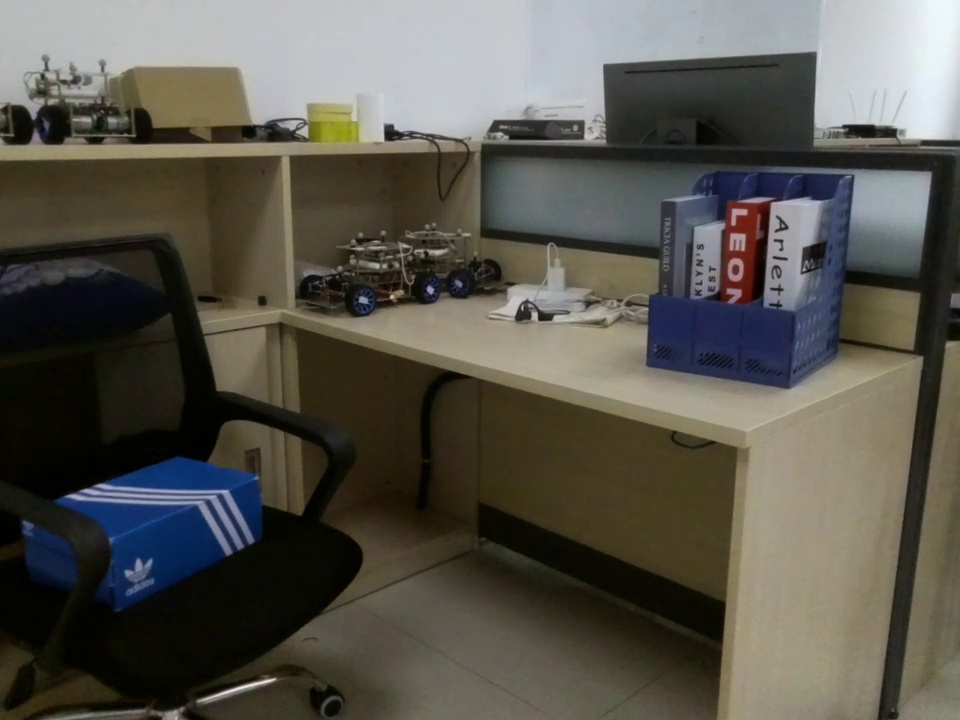files: (644, 161, 858, 393)
